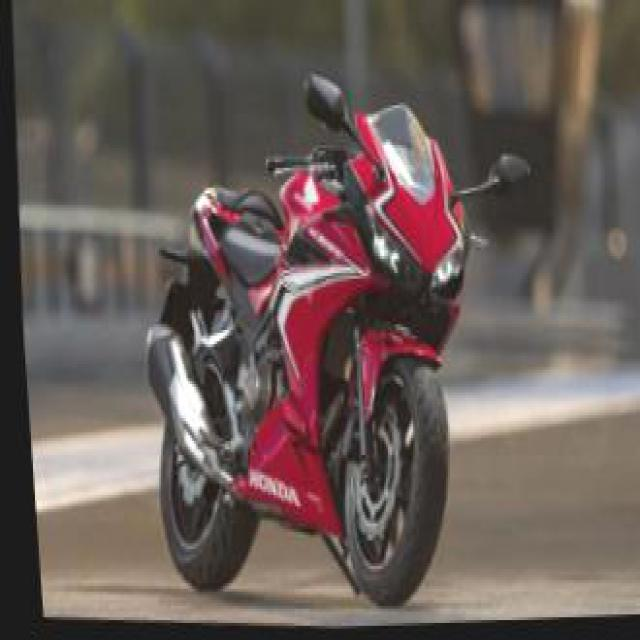CBR500R: (102, 54, 556, 632)
